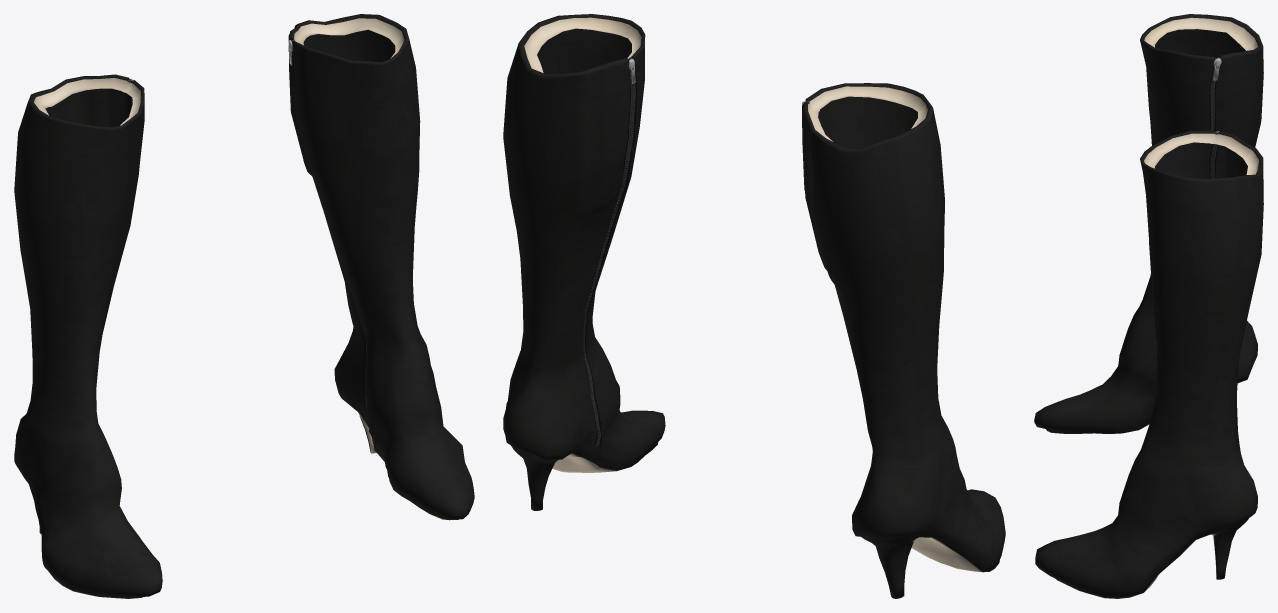
The model's file is punkduck-female-knee-boots.glb.
3 views of the same model, side by side, from view 1: azimuth 30°, elevation 25°; view 2: azimuth 150°, elevation 25°; view 3: azimuth 270°, elevation 25° (orthographic). The views are drawn at different scales.
Parts seen in each view (by area): view 1: Human.punkduck_female_knee_boots; view 2: Human.punkduck_female_knee_boots; view 3: Human.punkduck_female_knee_boots.
Boxes of the visible parts, left/top/right/bottom form: Human.punkduck_female_knee_boots: left=14, top=14, right=474, bottom=598; Human.punkduck_female_knee_boots: left=503, top=14, right=1005, bottom=598; Human.punkduck_female_knee_boots: left=1034, top=14, right=1263, bottom=598.
Size of the model in its own units: 0.5503 by 0.554 by 0.2782.
1 material, 1 textured.
